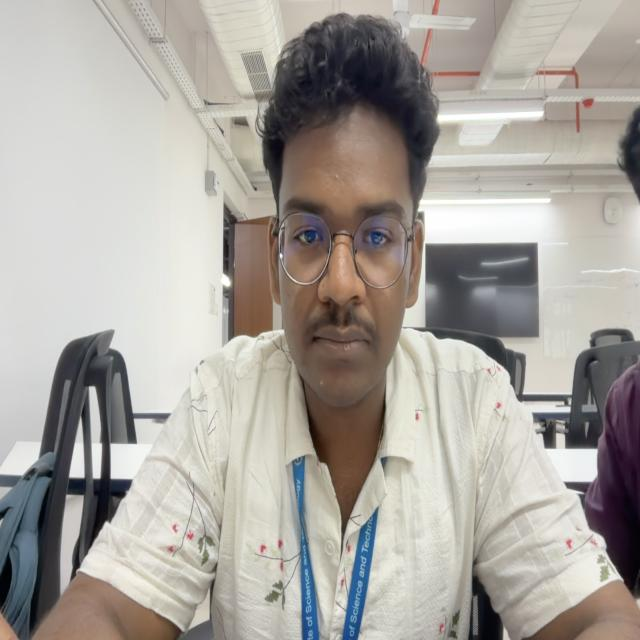sai: (265, 17, 426, 407)
